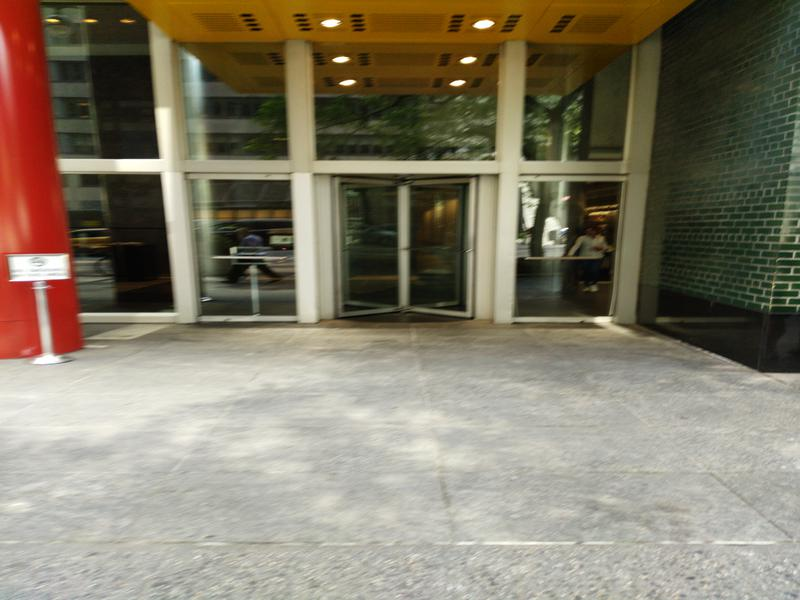door: (181, 165, 300, 323), (514, 173, 621, 322)
revolving_door: (321, 169, 487, 328)
